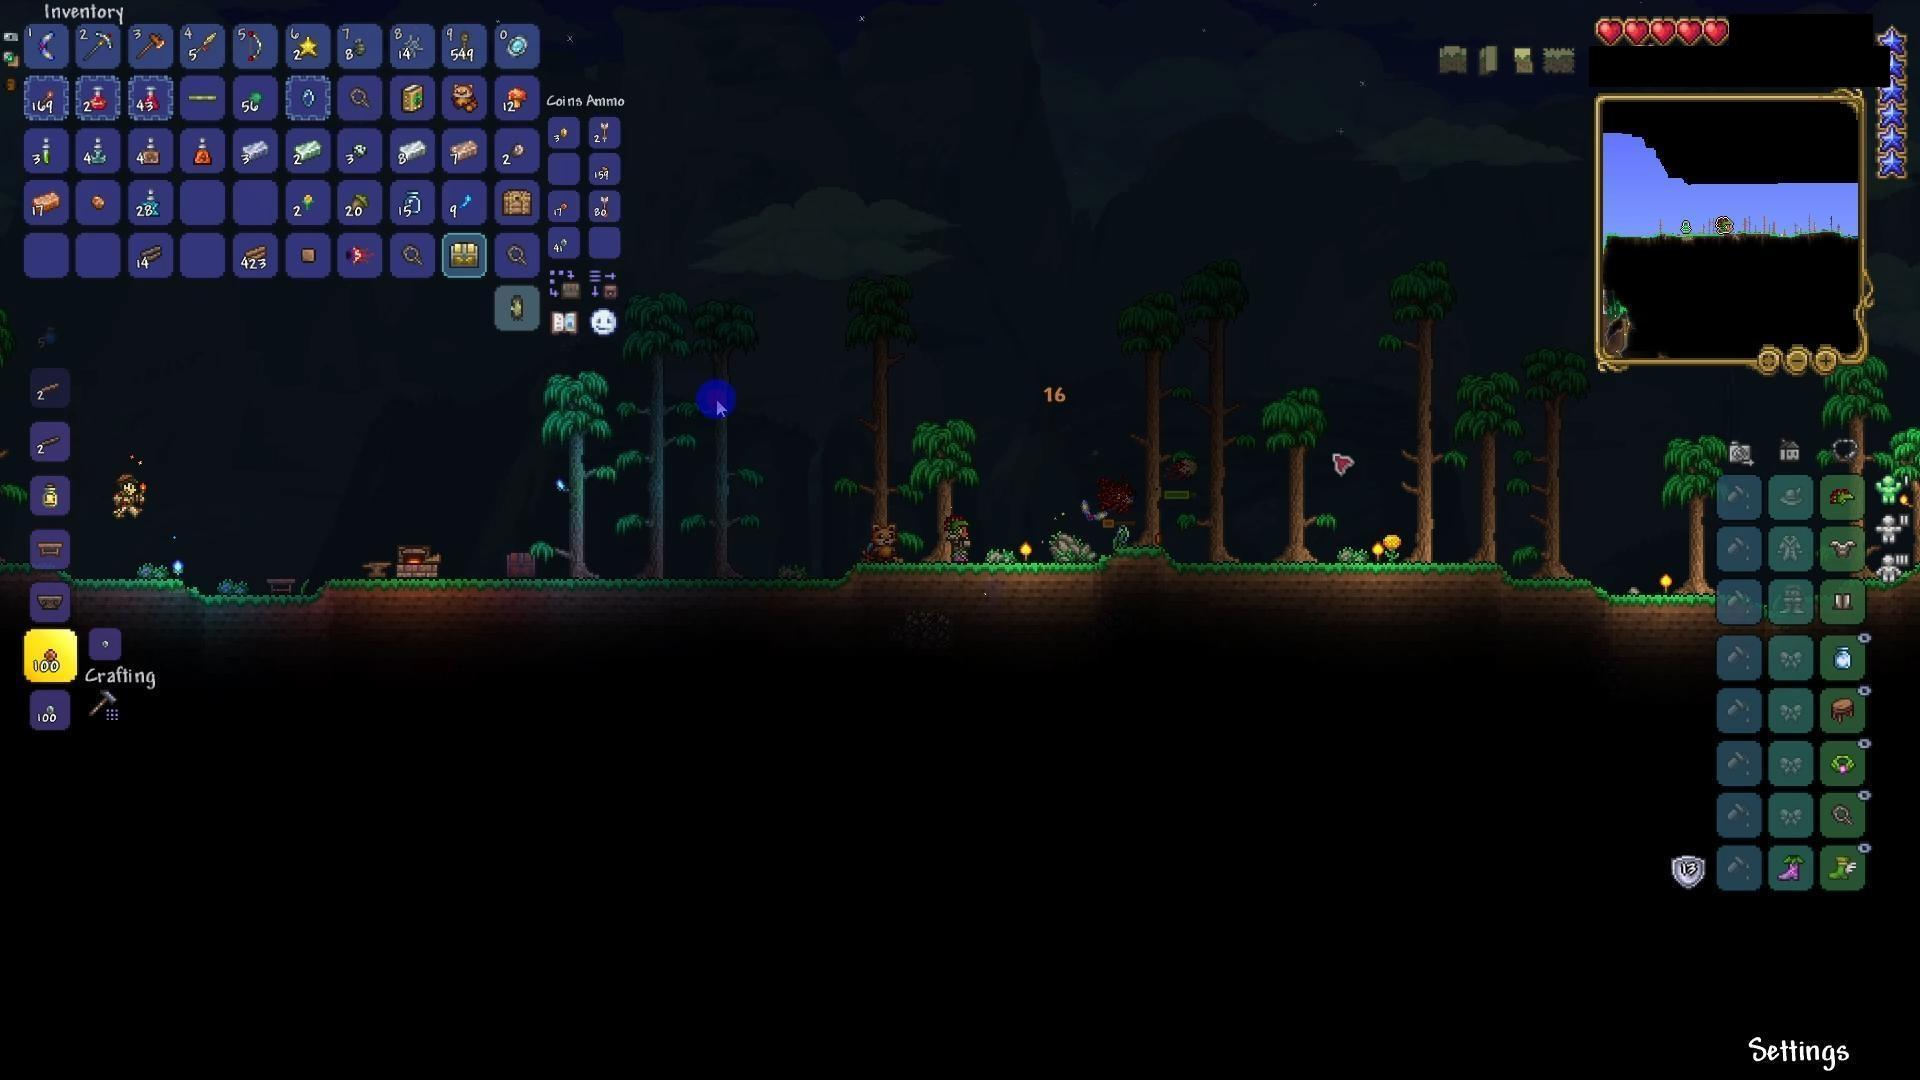dirt: (837, 556, 1120, 613), (1204, 556, 1486, 605), (327, 570, 626, 603), (628, 571, 841, 617), (1485, 555, 1600, 611), (179, 583, 330, 617), (1596, 583, 1712, 624), (78, 575, 190, 617), (1113, 549, 1207, 580)
heart: (1702, 17, 1733, 51), (1593, 16, 1626, 46), (1676, 15, 1704, 50), (1650, 16, 1676, 49), (1625, 15, 1651, 44)
tree: (1387, 245, 1460, 567), (549, 371, 615, 583), (1255, 380, 1323, 560), (1477, 359, 1528, 568), (1662, 431, 1713, 596), (918, 417, 971, 570)
